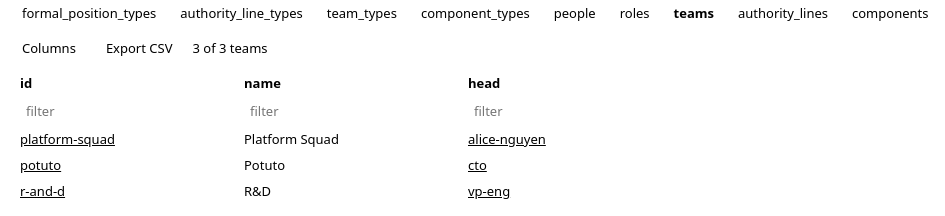
Test case: EntitiesView › narrows the rows as a filter is typed
The width and height of the screenshot is (945, 216).
Expected: the text "3 of 3 teams" is shown, [192, 39, 268, 57]
Type "alice" into the search field named "Filter head" at x=572, y=111, box [468, 100, 676, 122]
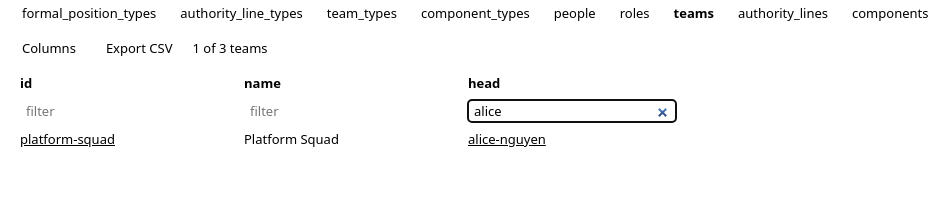
Expected: the link "platform-squad" is shown, [20, 130, 115, 148]
Expected: the text "1 of 3 teams" is shown, [192, 39, 268, 57]
Expected: the link "potuto" is gone
